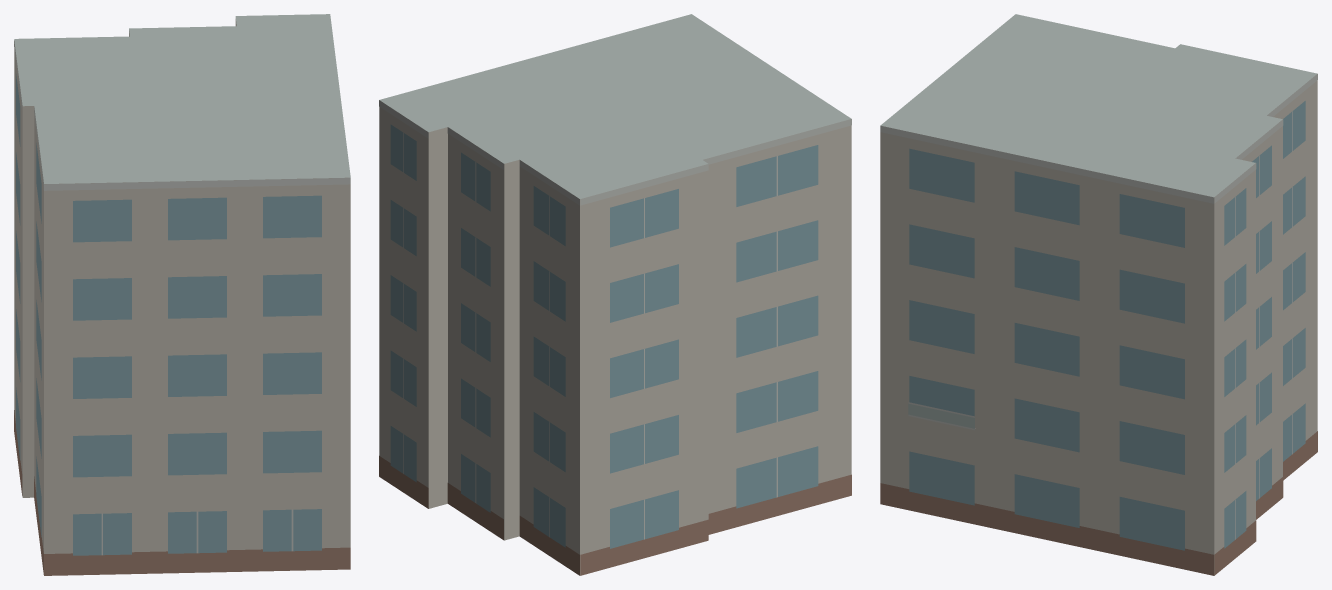
The model's file is survey-upis-32937709.glb.
3 renders of one model, left to right at view 1: azimuth 30°, elevation 25°; view 2: azimuth 150°, elevation 25°; view 3: azimuth 270°, elevation 25°, orthographic. The views are drawn at different scales.
Parts seen in each view (by area): view 1: survey-upis-32937709.tmp; view 2: survey-upis-32937709.tmp; view 3: survey-upis-32937709.tmp.
Part boxes in pixels (x1=…): survey-upis-32937709.tmp: x1=14, y1=14, x2=350, y2=575; survey-upis-32937709.tmp: x1=379, y1=14, x2=851, y2=575; survey-upis-32937709.tmp: x1=880, y1=14, x2=1317, y2=575.
Bounding box in the file's own units: 14.66 × 14.1 × 14.78.
